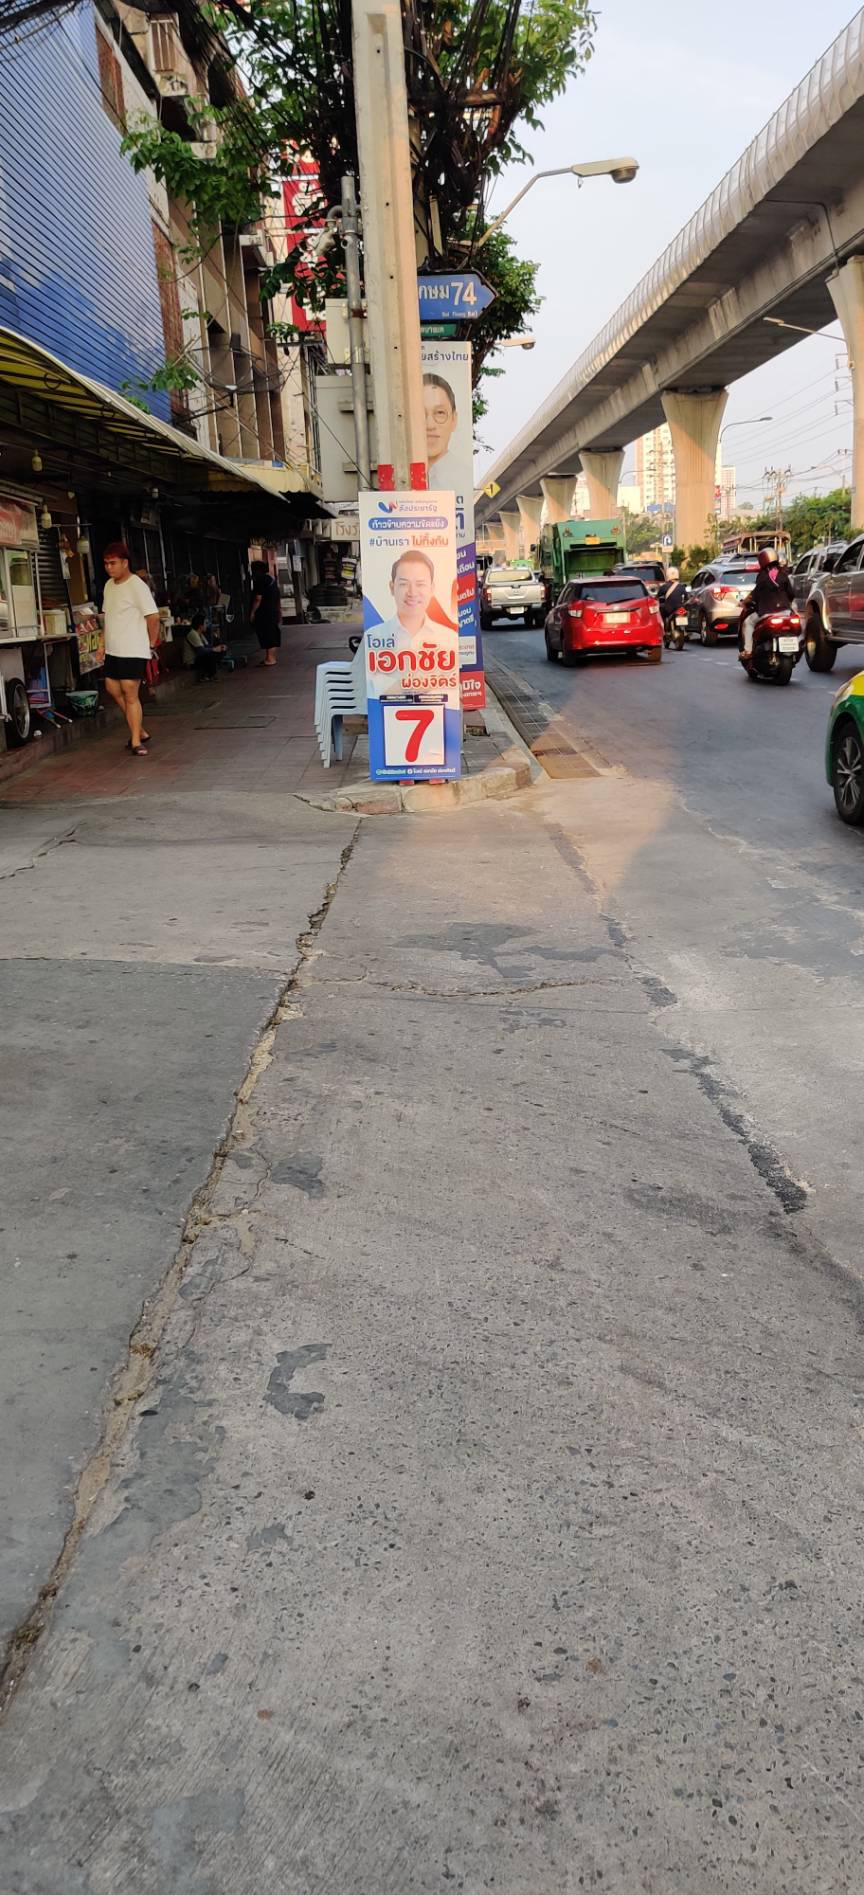Banner: (355, 496, 462, 780)
